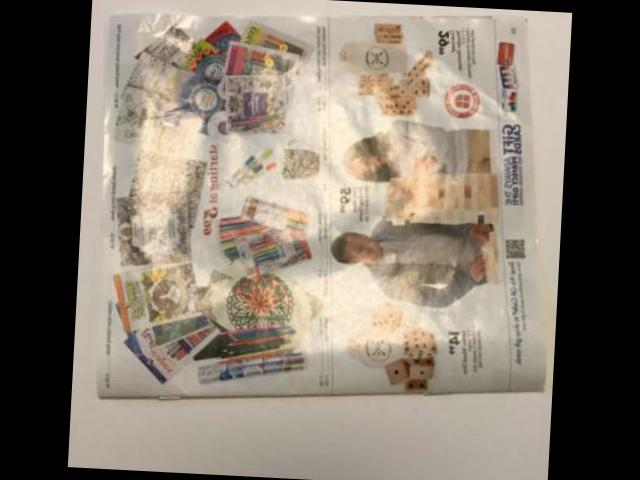cardboard paper: (97, 11, 542, 394)
